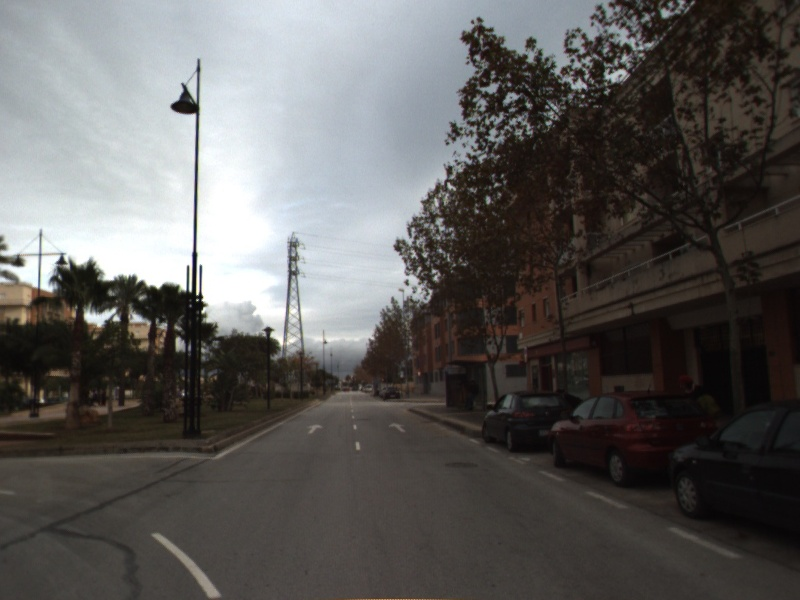STRAIGHT: (305, 422, 326, 436), (387, 421, 408, 434)
